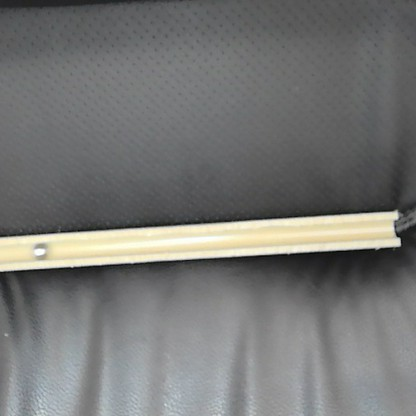ironball: (29, 241, 50, 261)
